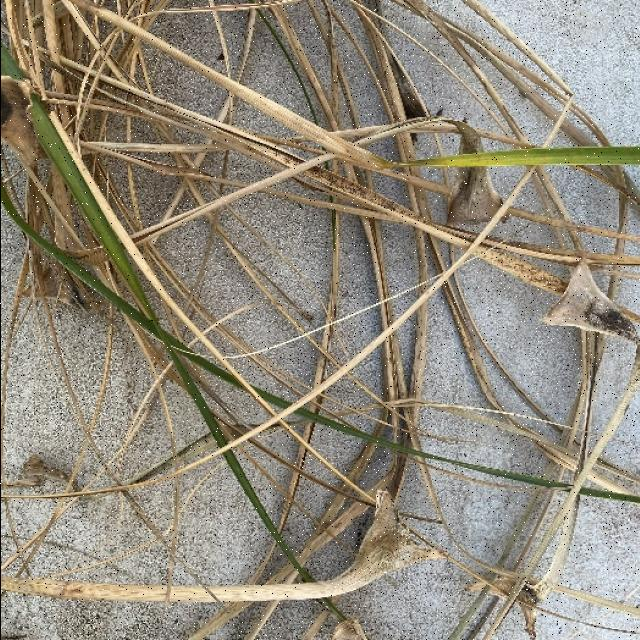organik: (0, 0, 624, 558)
